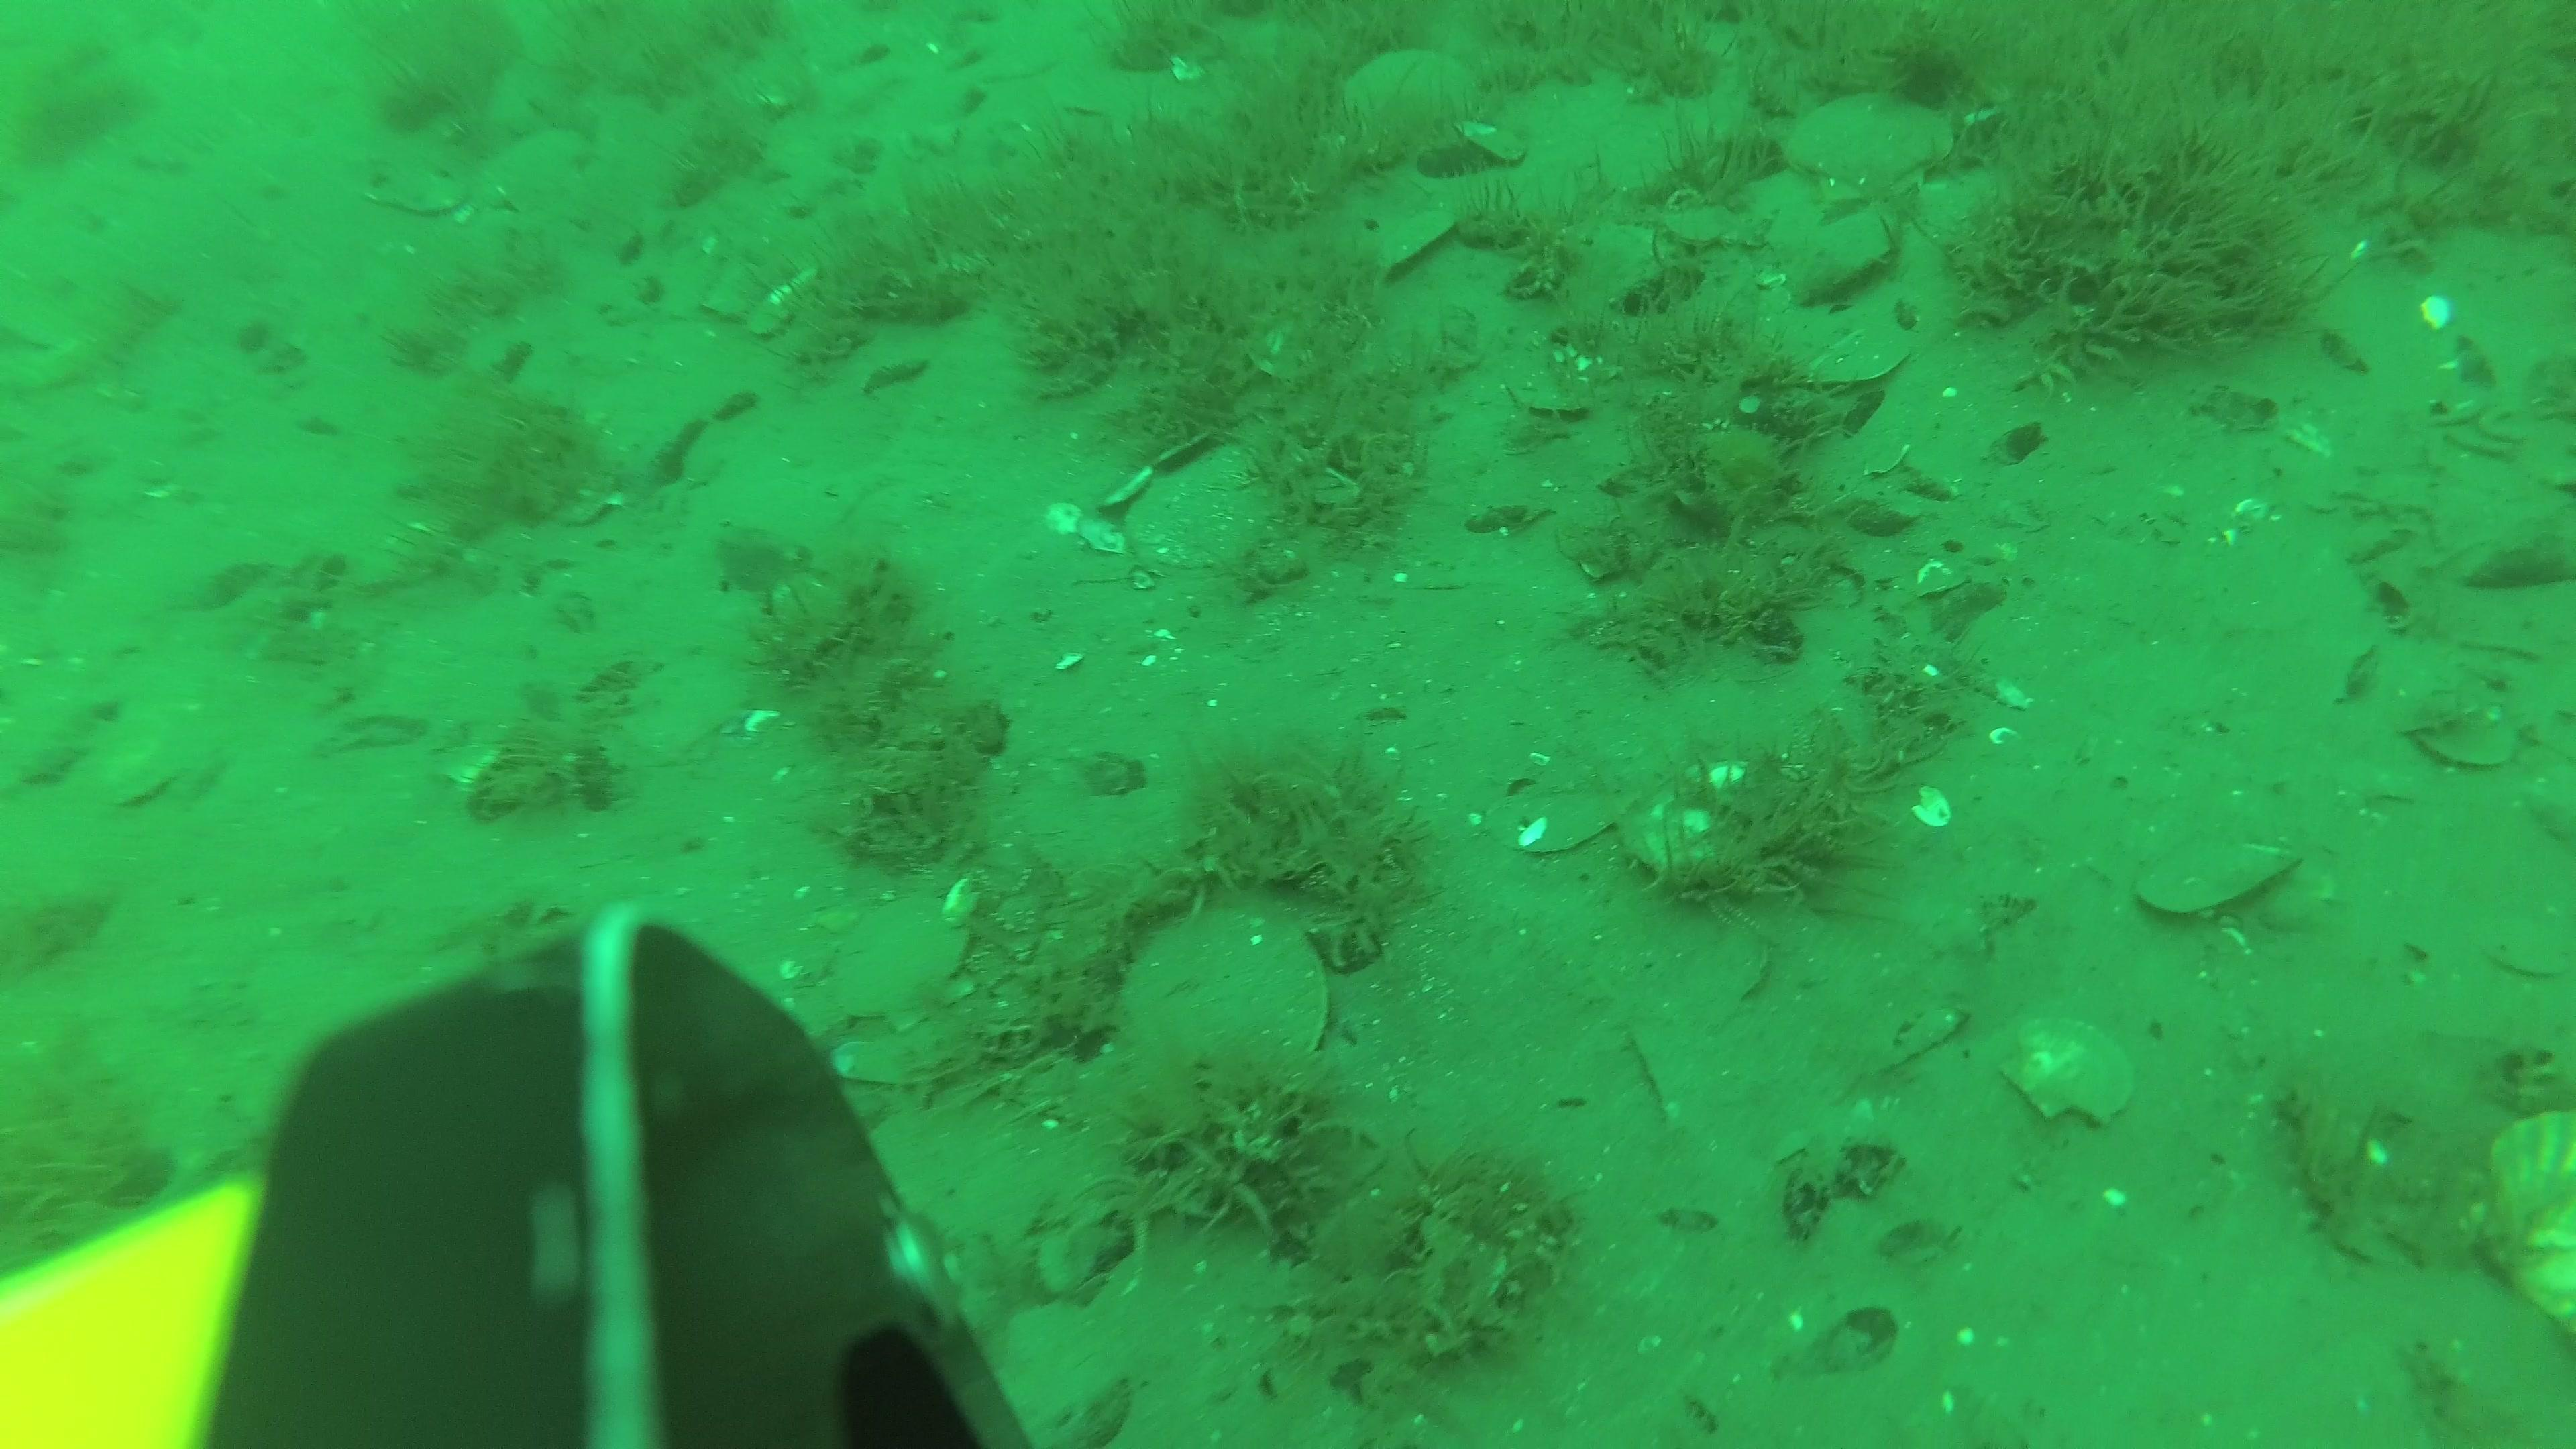scallop: (1116, 892, 1336, 1097), (2479, 1088, 2576, 1352), (1771, 85, 1966, 214), (1120, 435, 1292, 577), (824, 888, 984, 1040), (1996, 1001, 2148, 1138), (1737, 170, 1898, 294), (1339, 37, 1484, 156), (2137, 837, 2298, 918), (474, 124, 589, 216), (1594, 117, 1693, 200)
